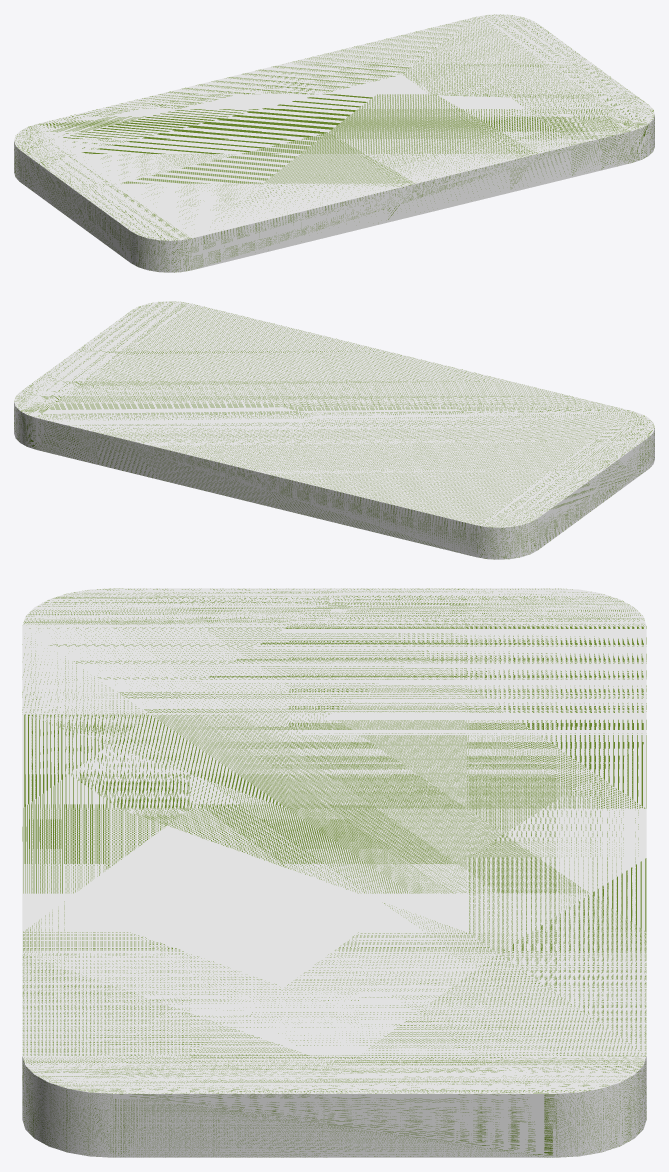
File: original-73.obj
The picture shows the model from 3 angles, top to bottom: view 1: azimuth 30°, elevation 25°; view 2: azimuth 150°, elevation 25°; view 3: azimuth 270°, elevation 25°; orthographic projection. The views are drawn at different scales.
Visible parts, largest first — view 1: mesh71/mesh71-geometry#mesh71-geometry; view 2: mesh71/mesh71-geometry#mesh71-geometry; view 3: mesh71/mesh71-geometry#mesh71-geometry.
Boxes of the visible parts, x1,y1,x2,y2 form: mesh71/mesh71-geometry#mesh71-geometry: (14, 14, 654, 272); mesh71/mesh71-geometry#mesh71-geometry: (14, 301, 654, 559); mesh71/mesh71-geometry#mesh71-geometry: (22, 588, 646, 1157).
Bounding box in the file's own units: 0.0885 × 0.00522 × 0.0462.
